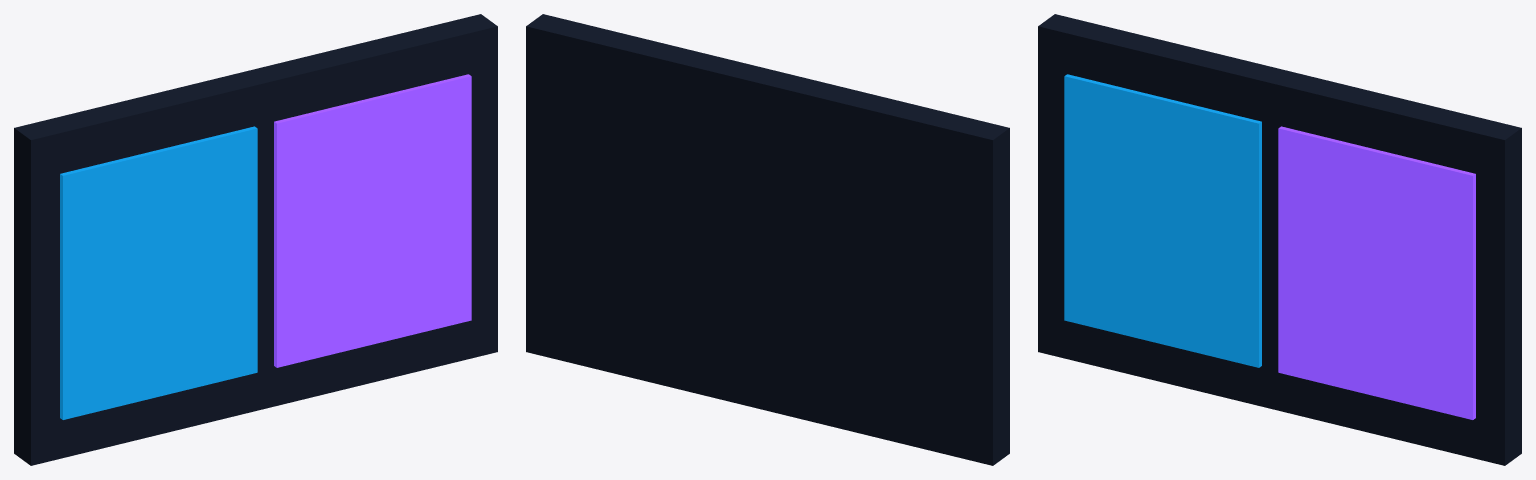
Rendered from reference_frame_display.glb.
3 renders of one model, left to right at view 1: azimuth 30°, elevation 25°; view 2: azimuth 150°, elevation 25°; view 3: azimuth 330°, elevation 25°, orthographic.
Parts seen in each view (by area): view 1: Reference_Frame_Telemetry_Display, Display_Frame_S_Lab, Display_Frame_SPrime_Moving; view 2: Reference_Frame_Telemetry_Display; view 3: Reference_Frame_Telemetry_Display, Display_Frame_S_Lab, Display_Frame_SPrime_Moving.
Part boxes in pixels (box(x1,y1,x2,y2)): Reference_Frame_Telemetry_Display: box(14, 14, 497, 465); Display_Frame_S_Lab: box(60, 126, 257, 419); Display_Frame_SPrime_Moving: box(274, 74, 471, 367); Reference_Frame_Telemetry_Display: box(526, 14, 1009, 465); Reference_Frame_Telemetry_Display: box(1038, 14, 1521, 465); Display_Frame_S_Lab: box(1064, 74, 1261, 367); Display_Frame_SPrime_Moving: box(1278, 126, 1475, 419).
Size of the model in its own units: 0.48 by 0.32 by 0.035.
